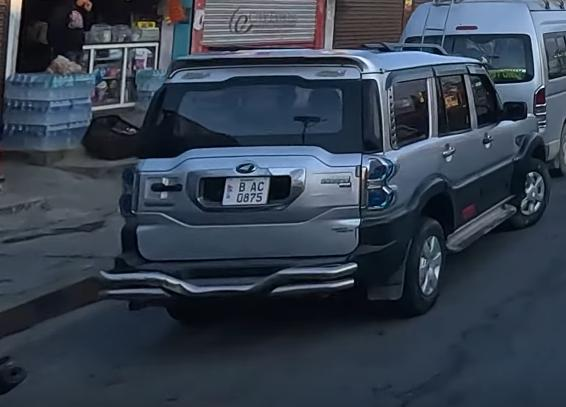SUV: (101, 33, 550, 335)
micro_bus: (399, 0, 566, 173)
